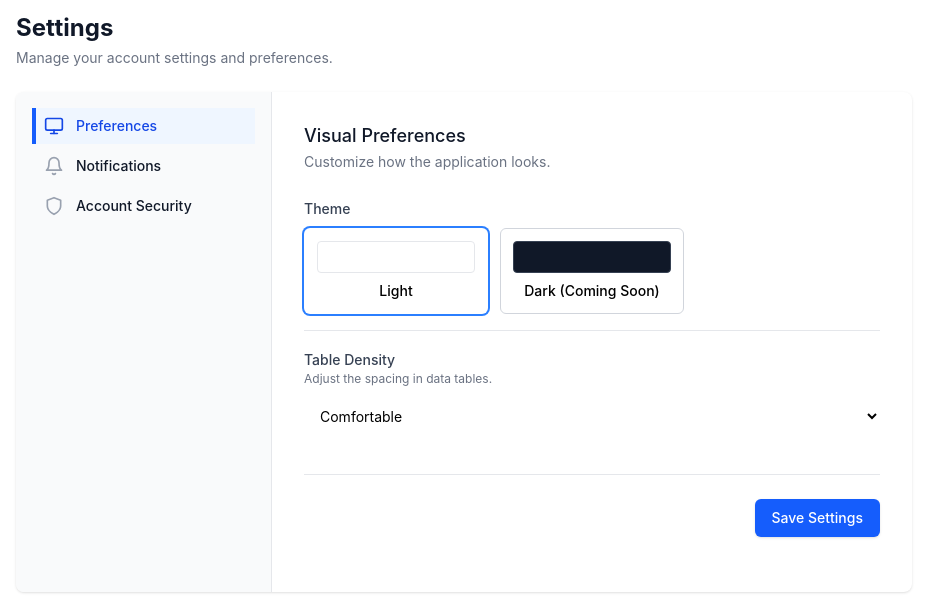
Test case: SettingsPage › defaults to Preferences tab and allows switching
Expected: the heading "Visual Preferences" is shown, x1=304 y1=125 x2=466 y2=146
# Switch to Notifications
Click the button "Notifications" at (144,166), box x1=32 y1=148 x2=255 y2=184
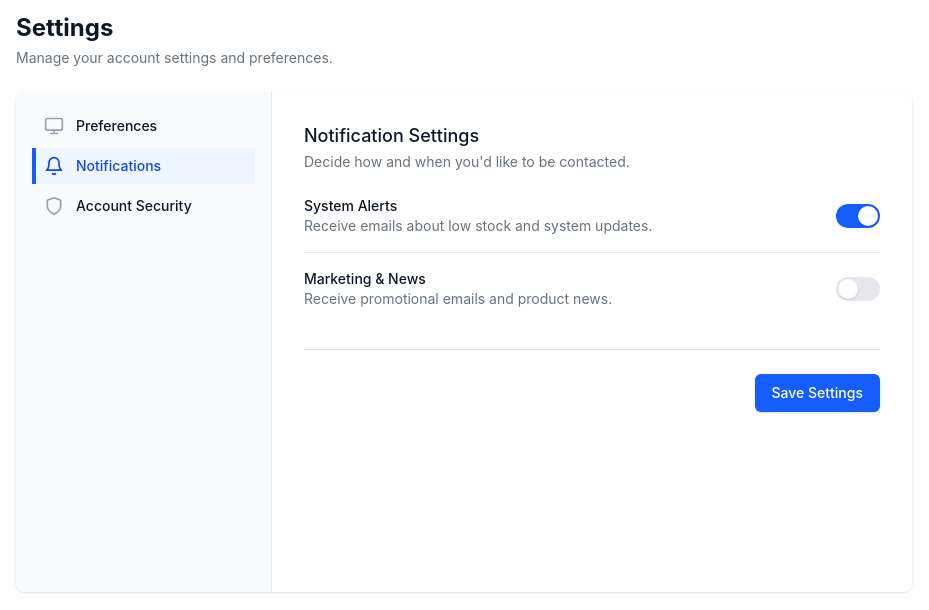
Expected: the heading "Notification Settings" is shown, x1=304 y1=125 x2=479 y2=146
# Switch to Account
Click the button "Account Security" at (144,206), box x1=32 y1=188 x2=255 y2=224
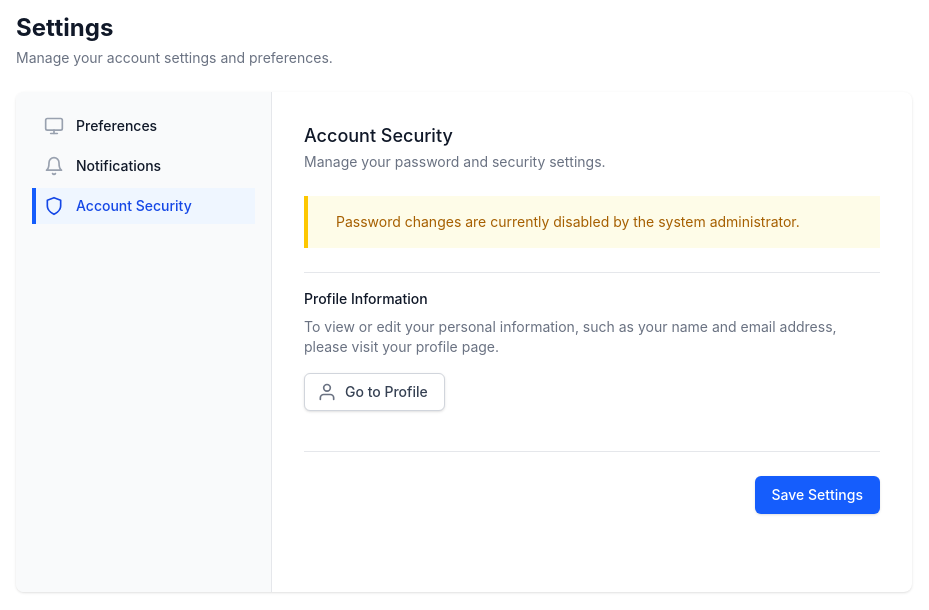
Expected: the text "Password changes are currently disabled by the system administrator." is shown, x1=336 y1=212 x2=800 y2=232
